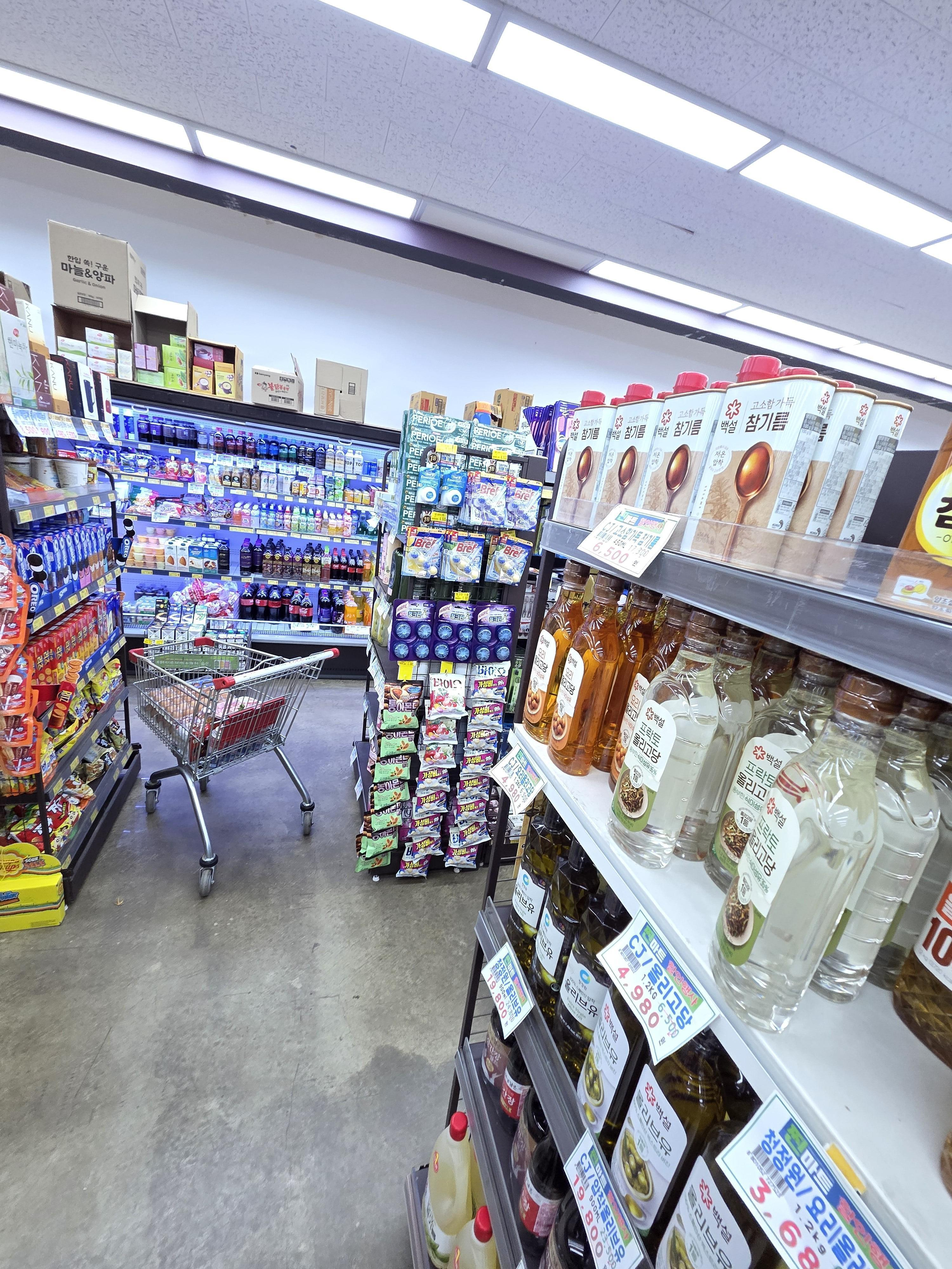fully_cart: (108, 611, 341, 919)
